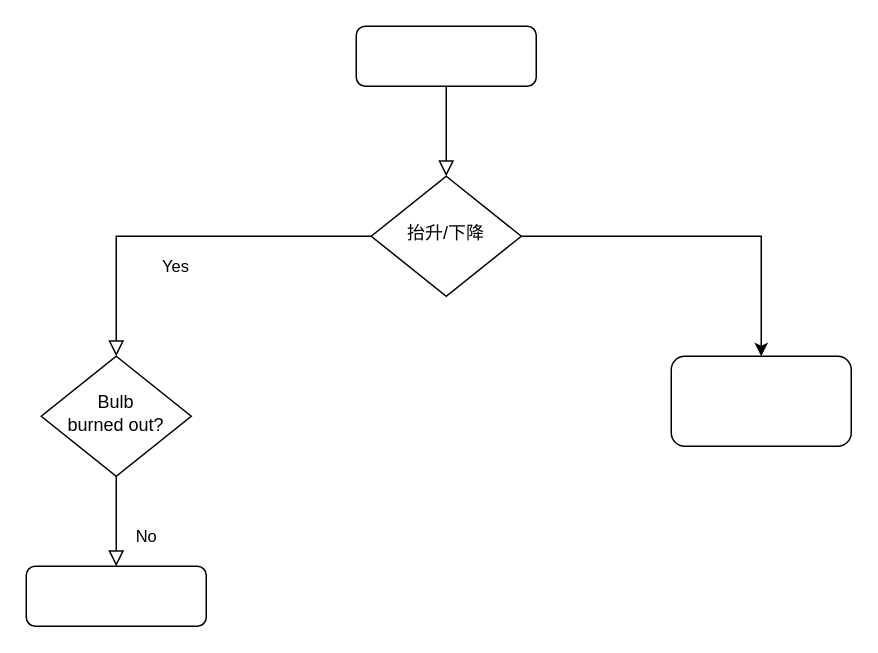
This 878x653 diagram has some shape labels left out. Each missing label, with the centre of its shape:
"Repair Lamp" goes at pixel 115 595.
"平面水体" goes at pixel 445 55.
